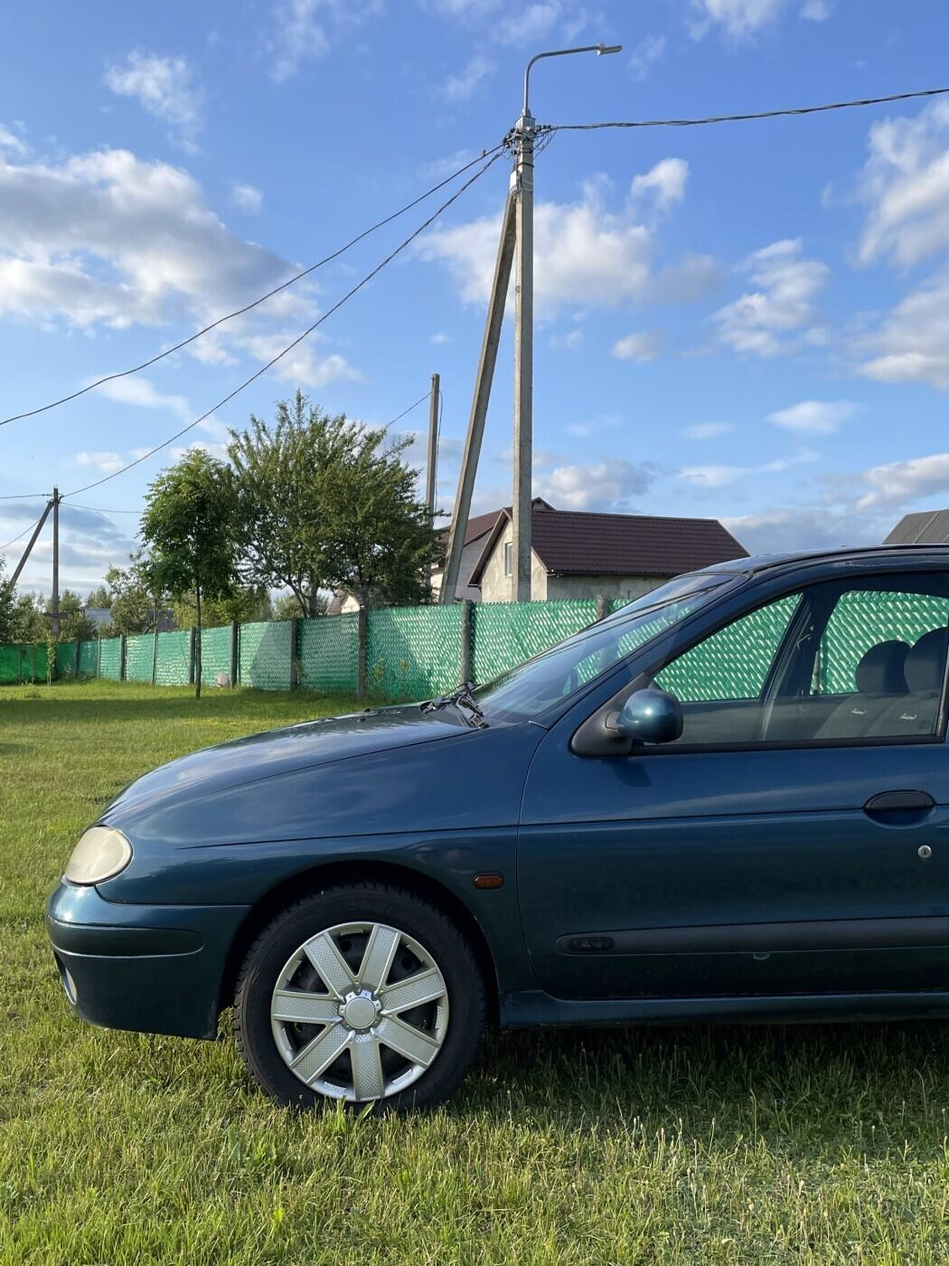Megane_1999-2003: (54, 534, 949, 1134)
